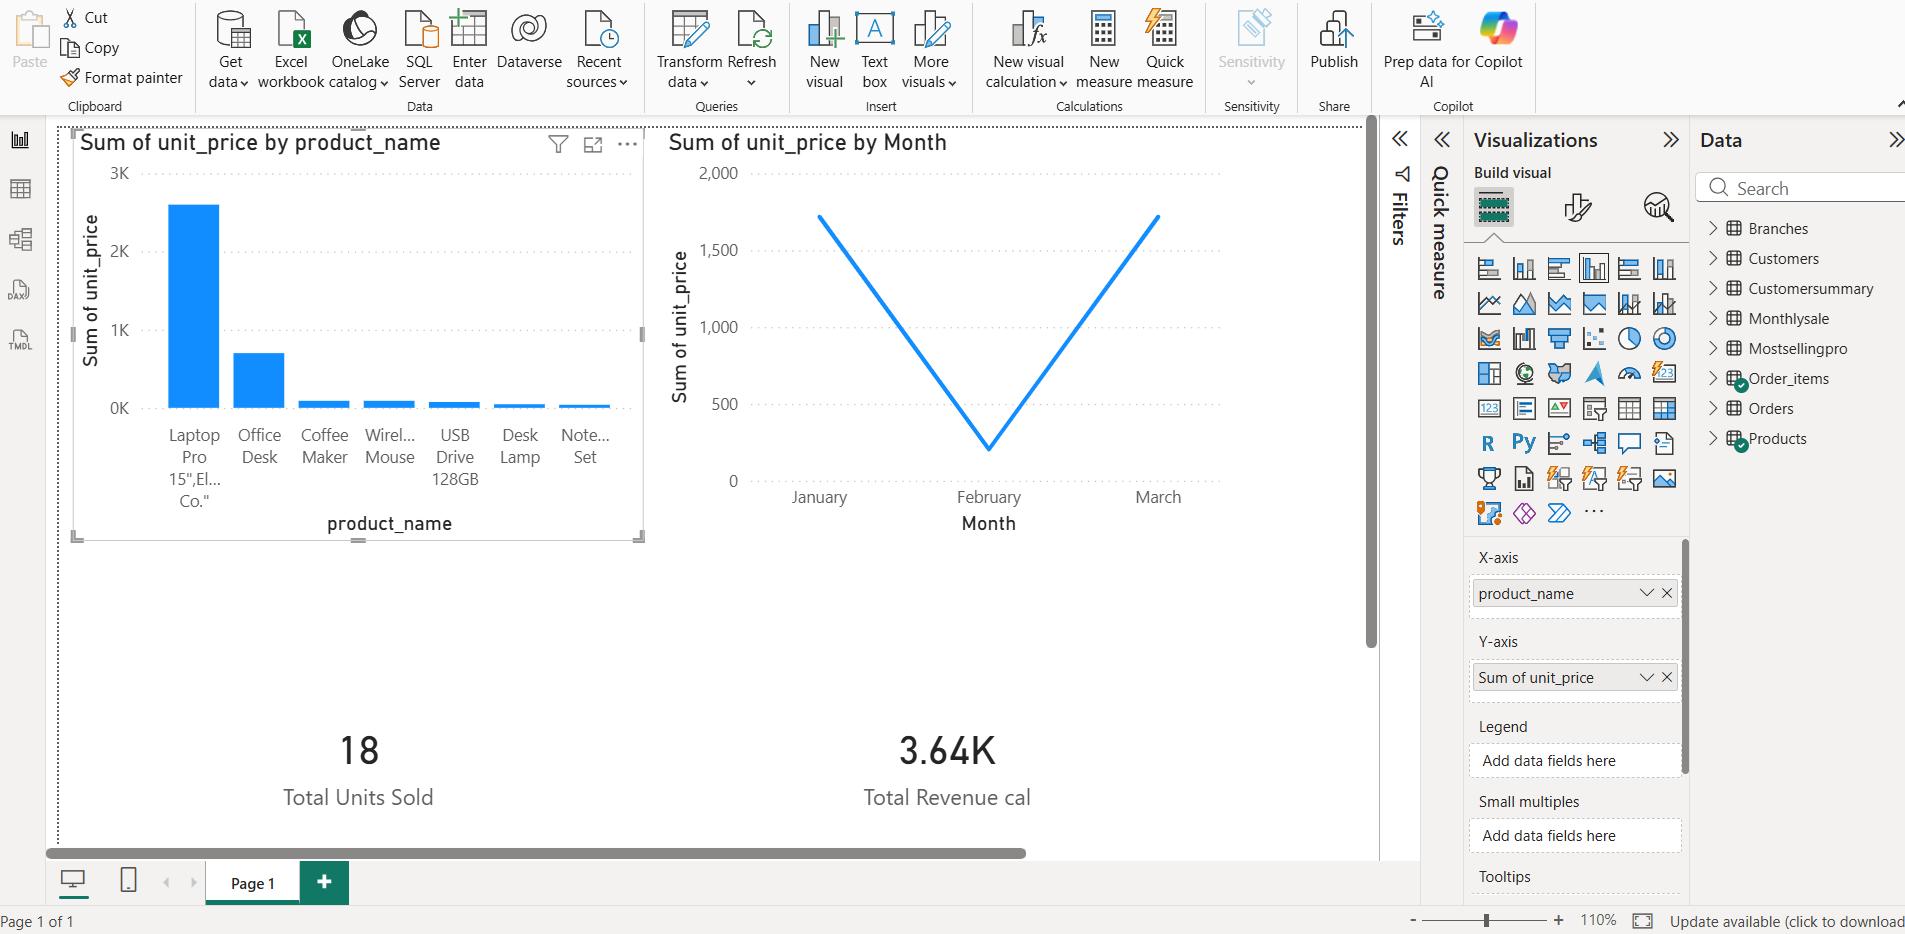

What the dashboard file says about the page in this screenshot:
{"tool":"powerbi","page":{"name":"Page 1","canvas":[1280,720],"ordinal":0},"visuals":[{"type":"clusteredColumnChart","fields":{"Y":["Sum(Order_items.unit_price)"],"Category":["Products.product_name"]},"box":[9.6,0,415.8,300.5],"z":0},{"type":"lineChart","fields":{"Category":["Orders.order_date.Variation.Date Hierarchy.Month","Orders.order_date.Variation.Date Hierarchy.Day"],"Y":["Sum(Order_items.unit_price)"]},"box":[438.4,0,415.8,300.5],"z":1000},{"type":"card","fields":{"Values":["Branches.Total Units Sold"]},"box":[10,311,416,301],"z":2000},{"type":"card","fields":{"Values":["Branches.Total Revenue cal"]},"box":[438,311,416,301],"z":3000},{"type":"card","fields":{"Values":["CountNonNull(Orders.order_id)"]},"box":[864,0,416,301],"z":4000}]}

Visuals, with their boxes on the page's 1280x720 design canvas (x1, y1, x2, y2). These are canvas units, not pixel positions in the 1905x934 screenshot, which may show the page scaled, cropped or inside an application window:
clusteredColumnChart - Sum(Order_items.unit_price) x Products.product_name: left=10, top=0, right=425, bottom=300
lineChart - Orders.order_date.Variation.Date Hierarchy.Month x Orders.order_date.Variation.Date Hierarchy.Day: left=438, top=0, right=854, bottom=300
card - Branches.Total Units Sold: left=10, top=311, right=426, bottom=612
card - Branches.Total Revenue cal: left=438, top=311, right=854, bottom=612
card - CountNonNull(Orders.order_id): left=864, top=0, right=1280, bottom=301
